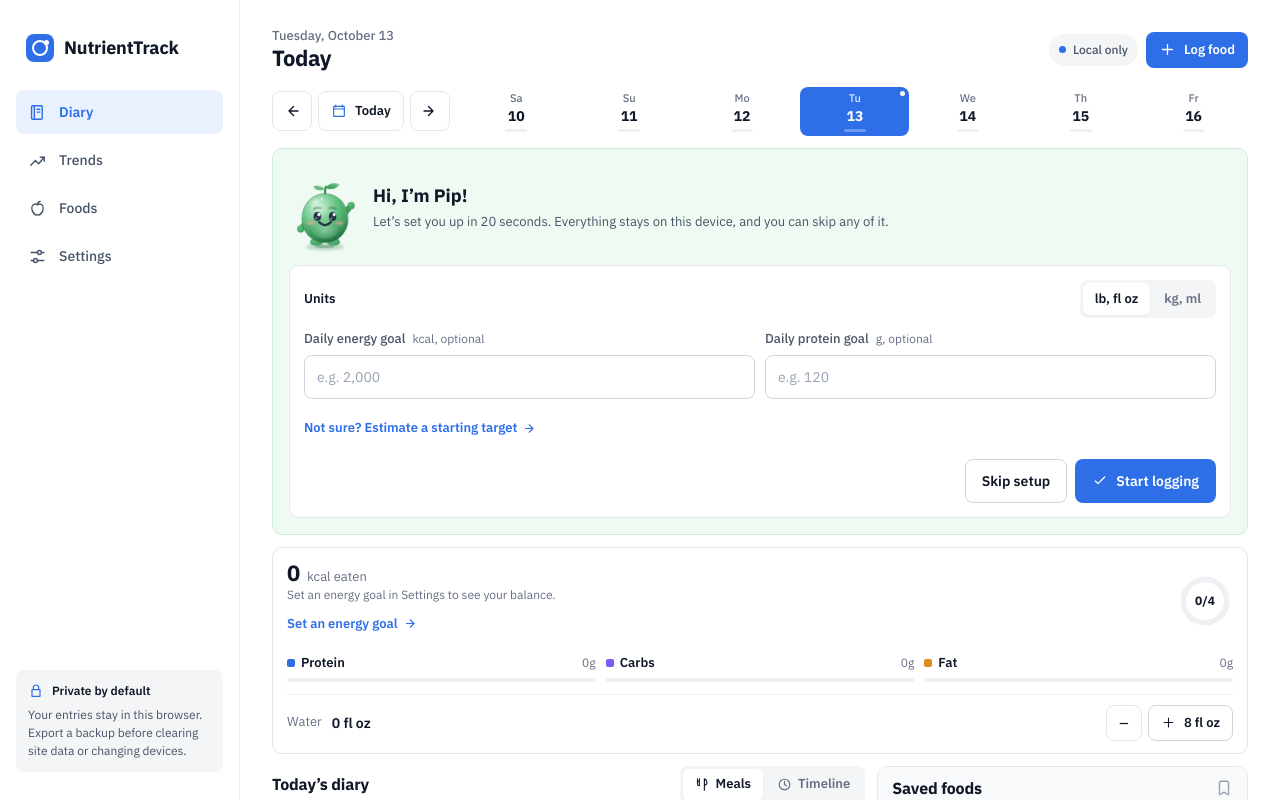
Test: diary add controls › keeps the top-bar Log food button opening the dialog
The width and height of the screenshot is (1280, 800).
Click the button "Log food" at (1197, 50), box [1146, 32, 1248, 68]
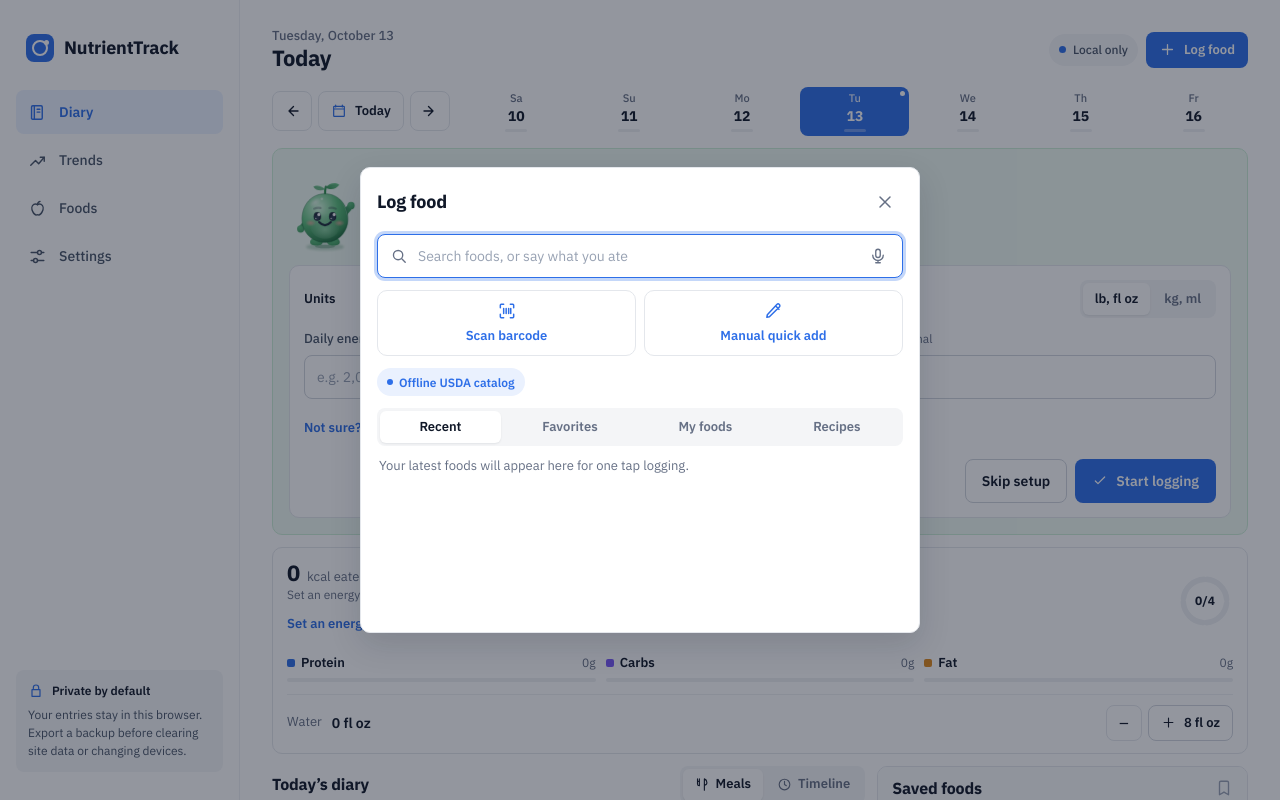
Expected: the dialog is shown, [360, 167, 920, 633]
